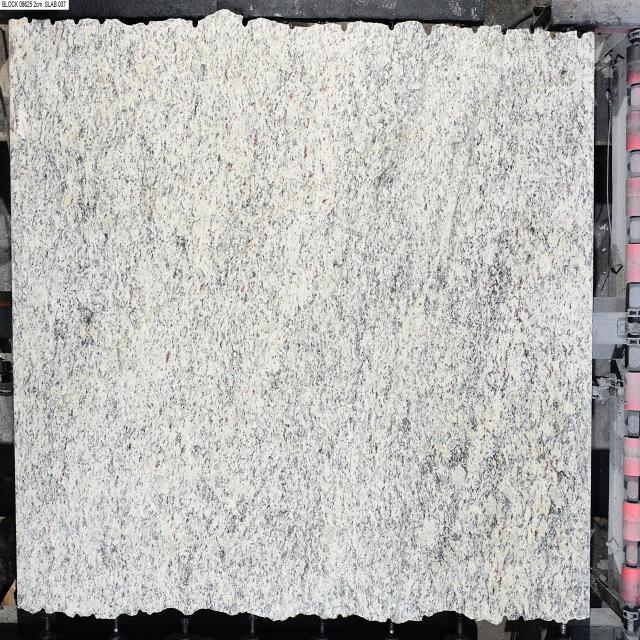chapa: (10, 13, 592, 624)
